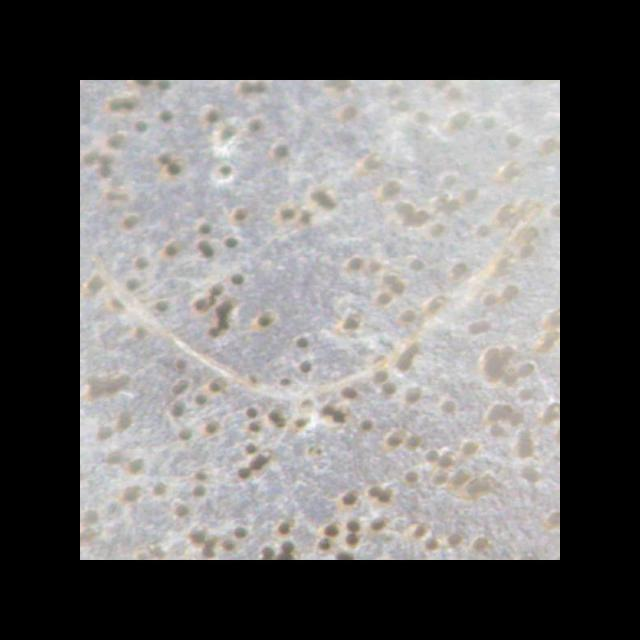Fibre: (80, 191, 558, 409)
